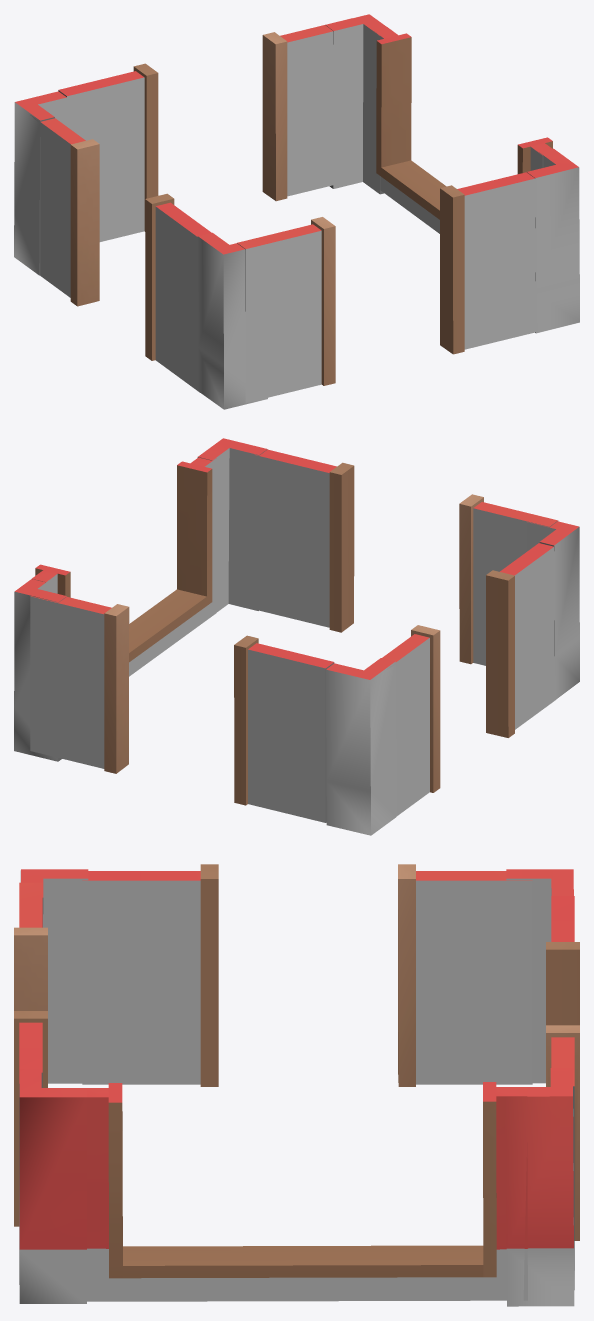
Rendered from SALON.fbx.
The picture shows the model from 3 angles, top to bottom: view 1: azimuth 30°, elevation 25°; view 2: azimuth 150°, elevation 25°; view 3: azimuth 270°, elevation 25°; orthographic projection. The views are drawn at different scales.
Visible parts, largest first — view 1: paret_puerta33, paret_puerta40, paret_puerta31, paret_con_ventana_grande19, paret_esquina_62, paret_esquina_63, paret_esquina_64, paret_esquina_69; view 2: paret_puerta40, paret_puerta33, paret_puerta31, paret_esquina_69, paret_con_ventana_grande19, paret_esquina_63, paret_esquina_62, paret_esquina_64; view 3: paret_puerta31, paret_con_ventana_grande19, paret_esquina_63, paret_esquina_64, paret_esquina_62, paret_puerta33, paret_puerta40, paret_esquina_69.
Boxes of the visible parts, x1,y1,x2,y2 form: paret_puerta33: (237,172,535,402); paret_puerta40: (58,18,361,241); paret_puerta31: (30,115,211,392); paret_con_ventana_grande19: (372,26,552,233); paret_esquina_62: (197,232,267,409); paret_esquina_63: (527,148,579,333); paret_esquina_64: (325,14,386,194); paret_esquina_69: (14,91,66,275); paret_puerta40: (30,596,334,822); paret_puerta33: (254,449,558,665); paret_puerta31: (382,543,555,815); paret_esquina_69: (326,658,396,835); paret_con_ventana_grande19: (32,457,216,676); paret_esquina_63: (197,438,267,612); paret_esquina_62: (527,521,579,700); paret_esquina_64: (14,576,66,761); paret_puerta31: (82,864,532,1086); paret_con_ventana_grande19: (87,1082,527,1301); paret_esquina_63: (19,1069,86,1303); paret_esquina_64: (505,1068,574,1306); paret_esquina_62: (20,869,88,1083); paret_puerta33: (14,882,47,1226); paret_puerta40: (546,896,579,1289); paret_esquina_69: (506,869,573,1083).
Size of the model in its own units: 823 by 346 by 831.
